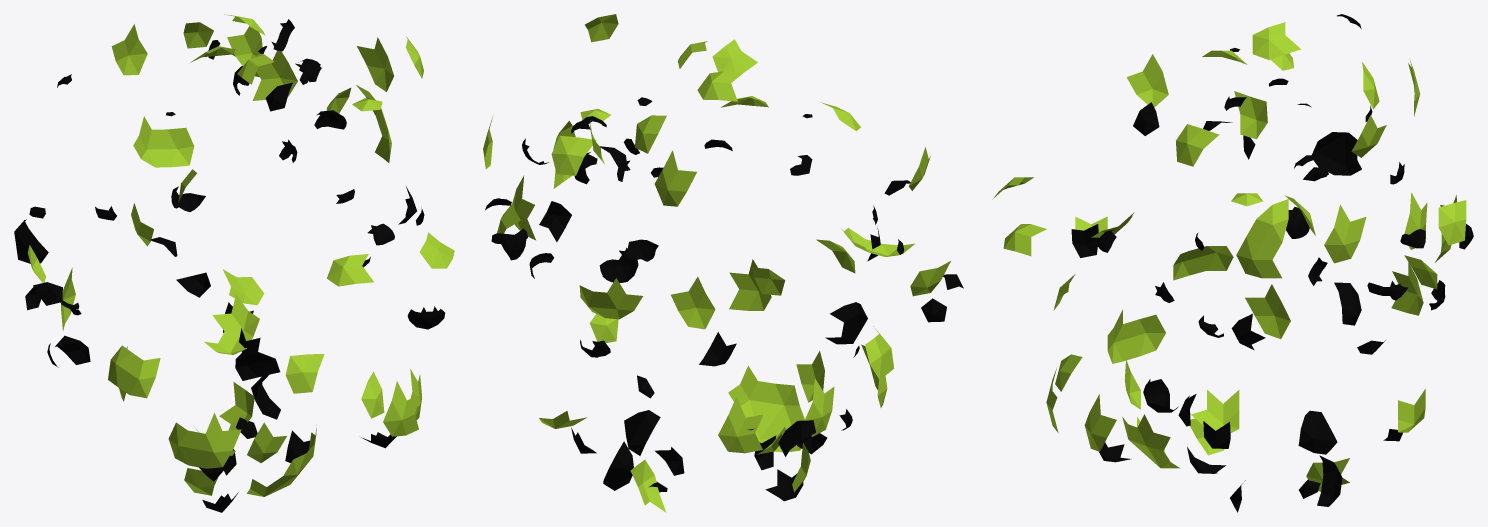
The model's file is explode.f0009.glb.
3 views of the same model, side by side, from view 1: azimuth 30°, elevation 25°; view 2: azimuth 150°, elevation 25°; view 3: azimuth 270°, elevation 25° (orthographic). The views are drawn at different scales.
Parts seen in each view (by area): view 1: Body.001; view 2: Body.001; view 3: Body.001.
Part boxes in pixels (bbox=[...]): Body.001: bbox=[14, 14, 454, 512]; Body.001: bbox=[483, 14, 963, 512]; Body.001: bbox=[992, 14, 1473, 512].
Size of the model in its own units: 7.5 by 8.04 by 7.43.
Materials: 1 (1 with a texture image).
